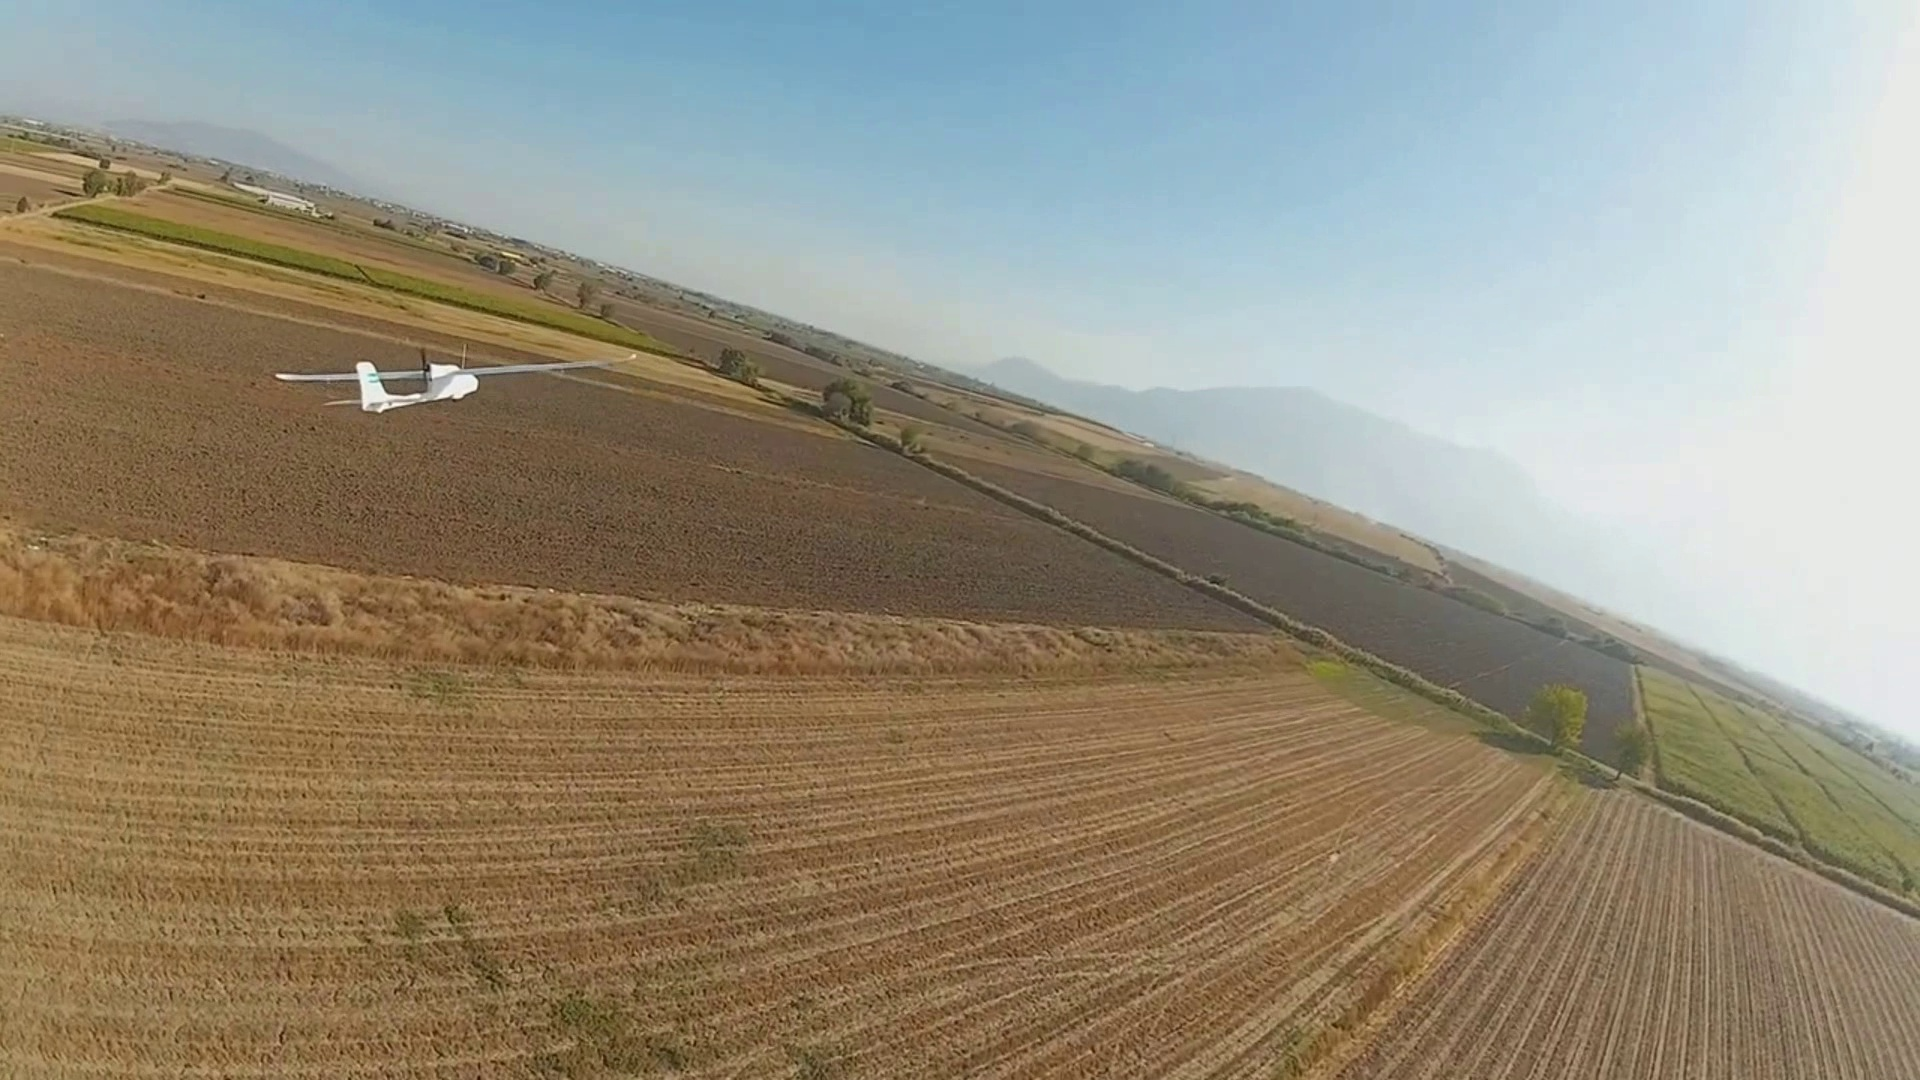airplane: (270, 357, 480, 411), (353, 357, 479, 411)
